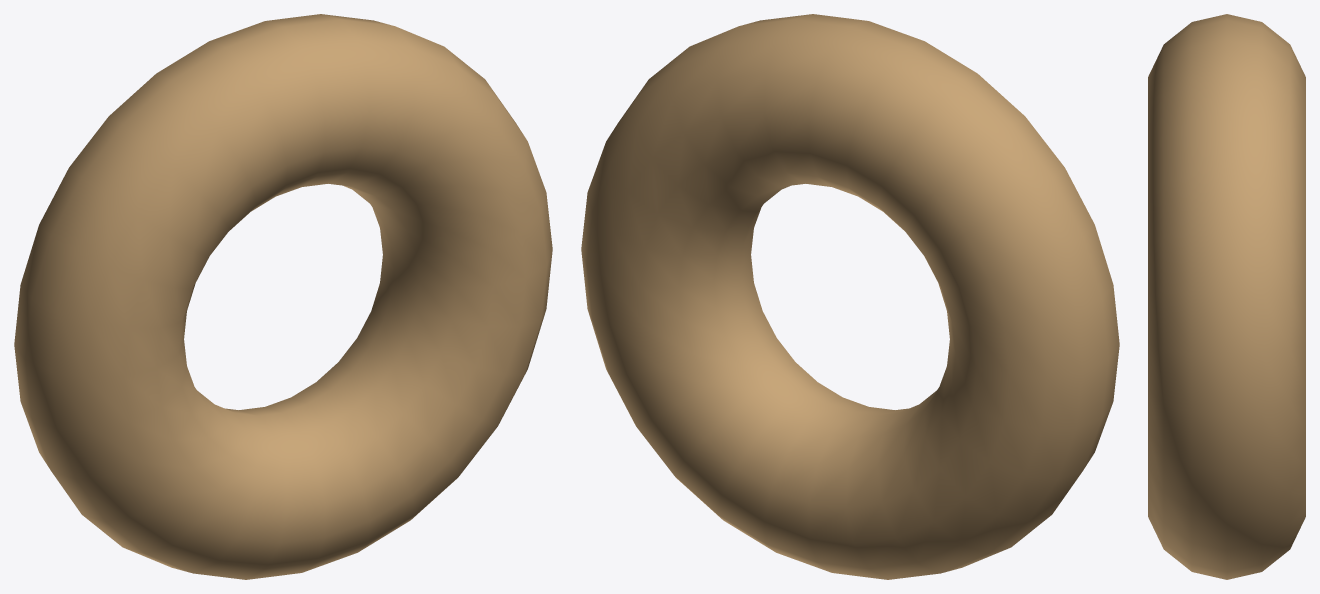
Rendered from hair-braids-01.glb.
3 views of the same model, side by side, from view 1: azimuth 30°, elevation 25°; view 2: azimuth 150°, elevation 25°; view 3: azimuth 270°, elevation 25° (orthographic). The views are drawn at different scales.
Bounding box in the file's own units: 2.24 × 2.24 × 0.624.
